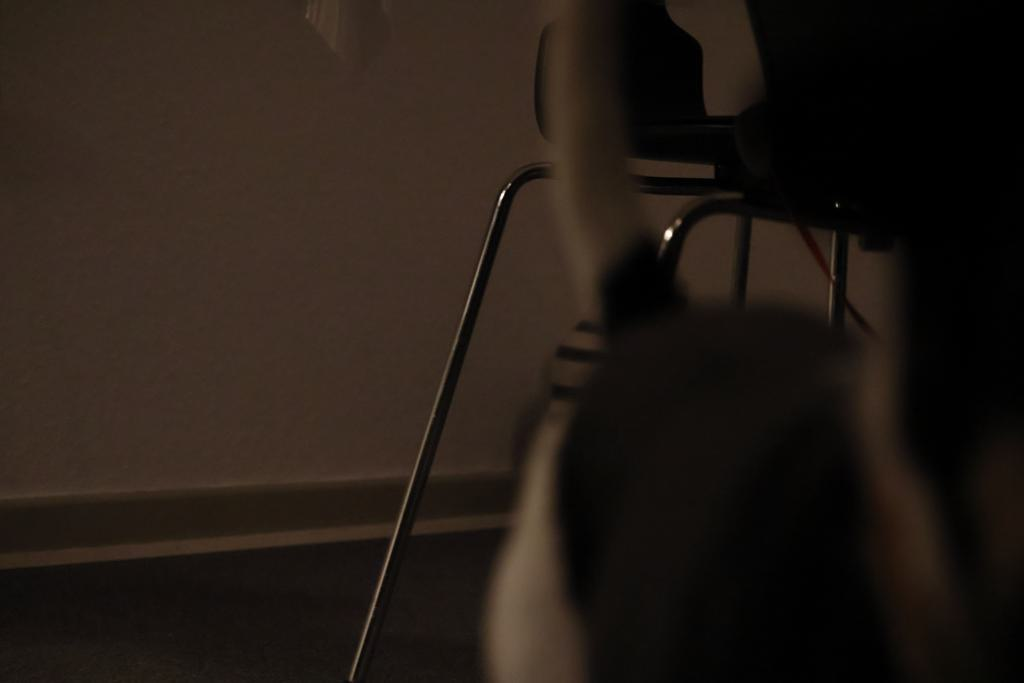Dog: (478, 0, 1024, 683)
